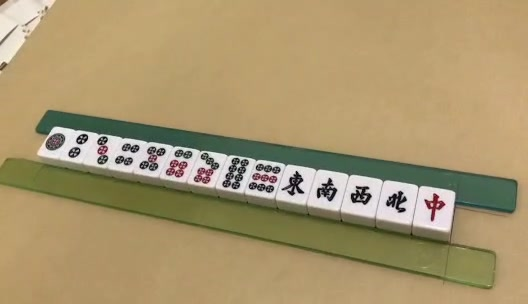1p: (45, 133, 65, 150)
1z: (281, 171, 306, 196)
2p: (68, 133, 88, 158)
2z: (317, 178, 338, 202)
3p: (97, 136, 108, 165)
3z: (351, 187, 373, 205)
4p: (115, 143, 140, 165)
4z: (385, 191, 407, 213)
5p: (139, 147, 166, 171)
6p: (166, 150, 192, 177)
7p: (195, 152, 219, 185)
7z: (424, 194, 446, 222)
8p: (222, 158, 248, 190)
9p: (249, 163, 281, 193)
